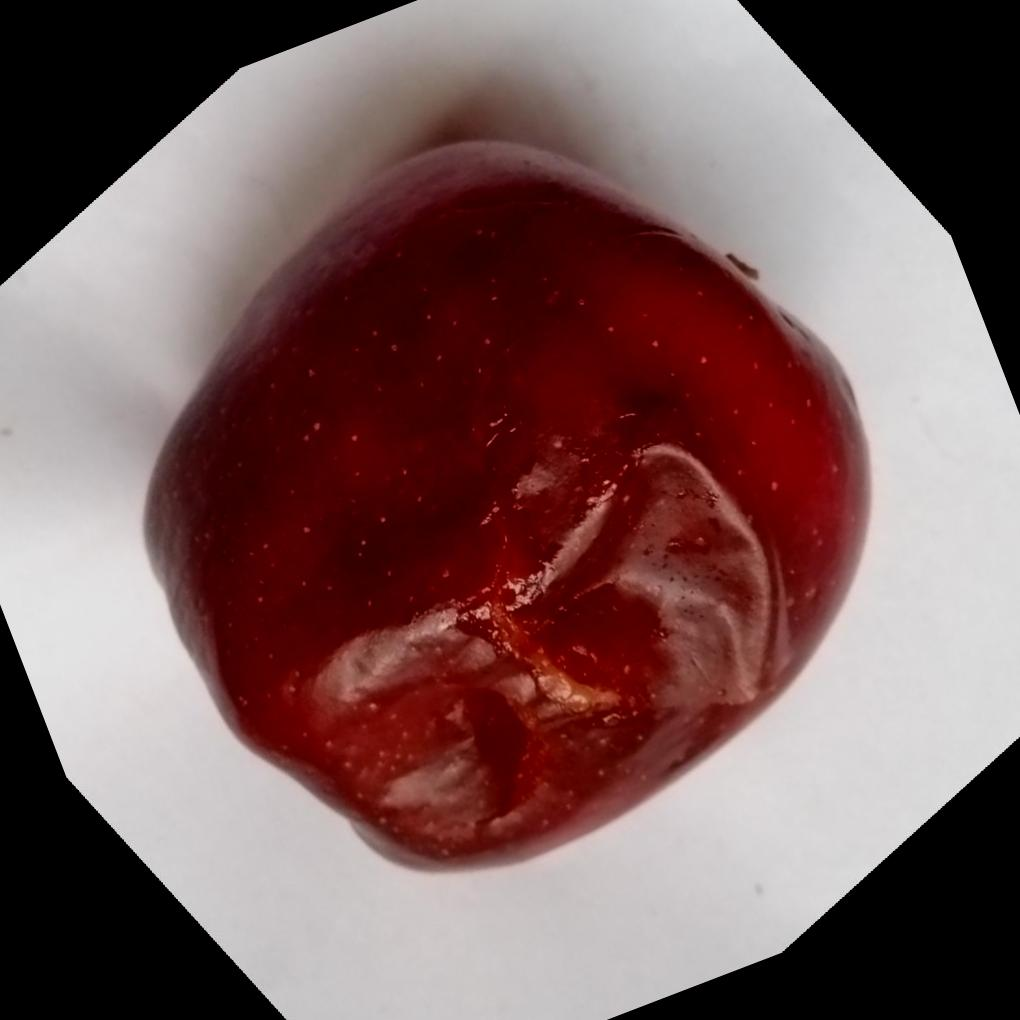FreshOrange: (140, 138, 872, 877)
